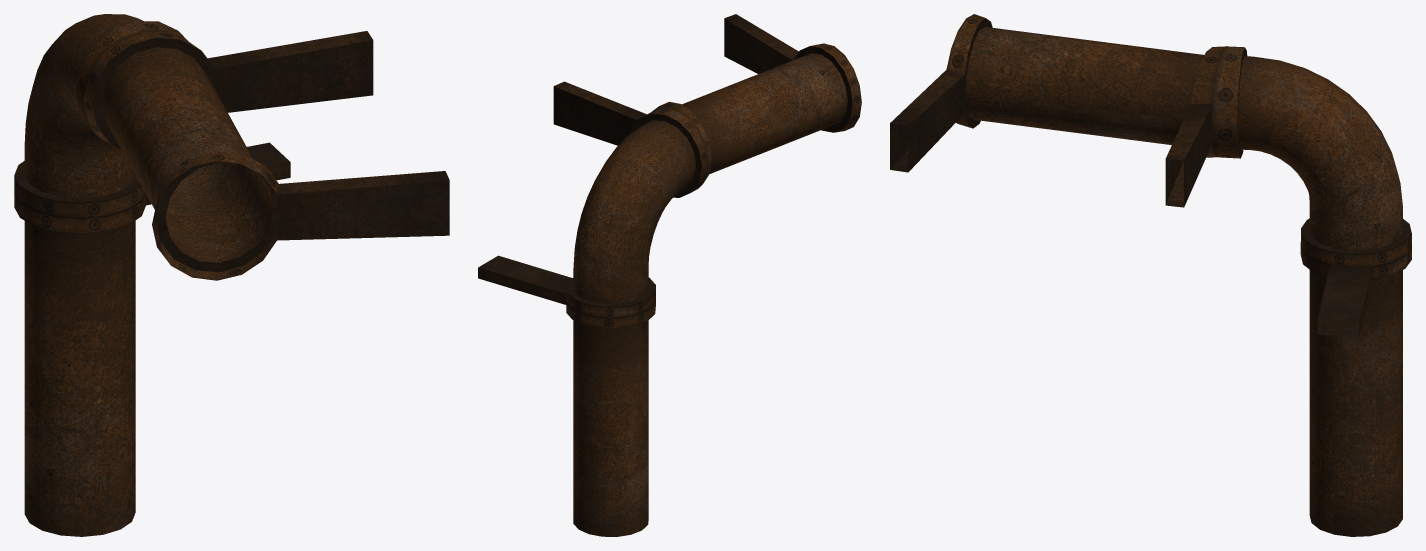
The model's file is SM_I_Pipes.fbx.
3 views of the same model, side by side, from view 1: azimuth 30°, elevation 25°; view 2: azimuth 150°, elevation 25°; view 3: azimuth 270°, elevation 25° (orthographic). The views are drawn at different scales.
Parts seen in each view (by area): view 1: I_Pipe_HORIZONTAL, I_Pipe_VERTICAL, I_Pipe_CURVED; view 2: I_Pipe_HORIZONTAL, I_Pipe_VERTICAL, I_Pipe_CURVED; view 3: I_Pipe_HORIZONTAL, I_Pipe_VERTICAL, I_Pipe_CURVED.
Boxes of the visible parts, bbox=[...] form: I_Pipe_HORIZONTAL: bbox=[83, 30, 449, 280]; I_Pipe_VERTICAL: bbox=[14, 142, 290, 536]; I_Pipe_CURVED: bbox=[14, 14, 188, 218]; I_Pipe_HORIZONTAL: bbox=[553, 14, 861, 186]; I_Pipe_VERTICAL: bbox=[478, 255, 655, 536]; I_Pipe_CURVED: bbox=[566, 107, 708, 317]; I_Pipe_HORIZONTAL: bbox=[890, 14, 1226, 207]; I_Pipe_VERTICAL: bbox=[1300, 242, 1411, 536]; I_Pipe_CURVED: bbox=[1212, 46, 1411, 267].
Size of the model in its own units: 70.05 by 108 by 111.
